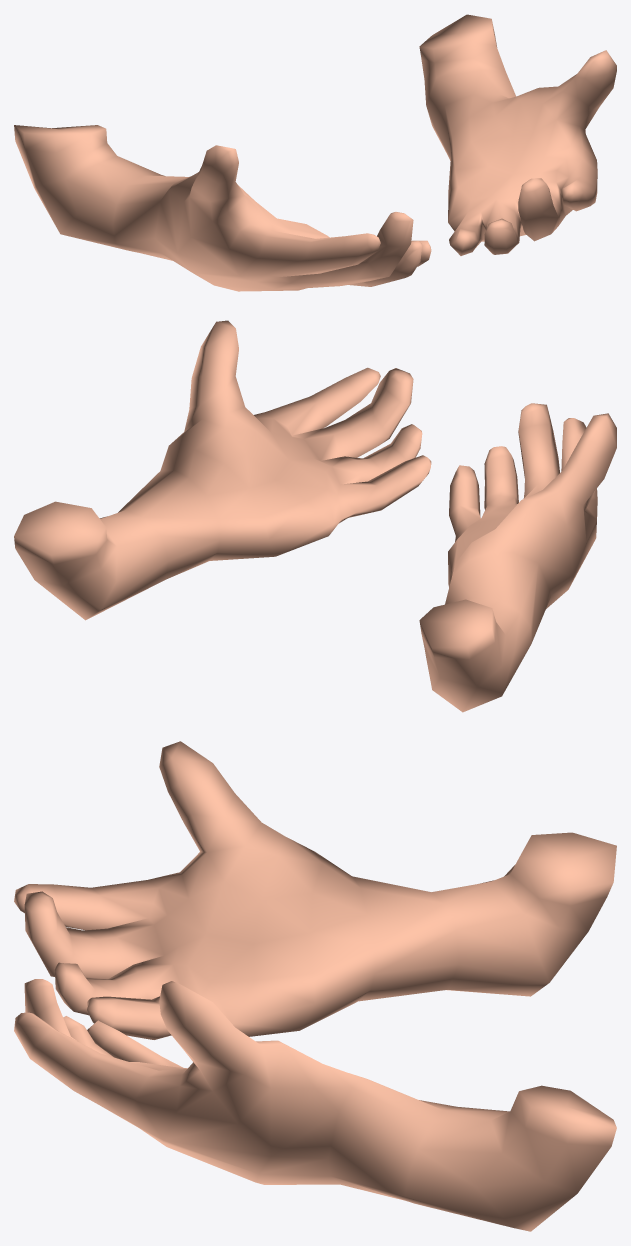
The model's file is AF_M_Arm_05.FBX.
The picture shows the model from 3 angles, top to bottom: view 1: azimuth 30°, elevation 25°; view 2: azimuth 150°, elevation 25°; view 3: azimuth 270°, elevation 25°; orthographic projection. The views are drawn at different scales.
Parts seen in each view (by area): view 1: AF_M_Arm_05; view 2: AF_M_Arm_05; view 3: AF_M_Arm_05.
Part boxes in pixels (<box>): AF_M_Arm_05: <box>14,14,616,291</box>; AF_M_Arm_05: <box>14,320,616,712</box>; AF_M_Arm_05: <box>14,741,616,1231</box>.
Bounding box in the file's own units: 456 × 182 × 397.
1 material, 1 textured.
